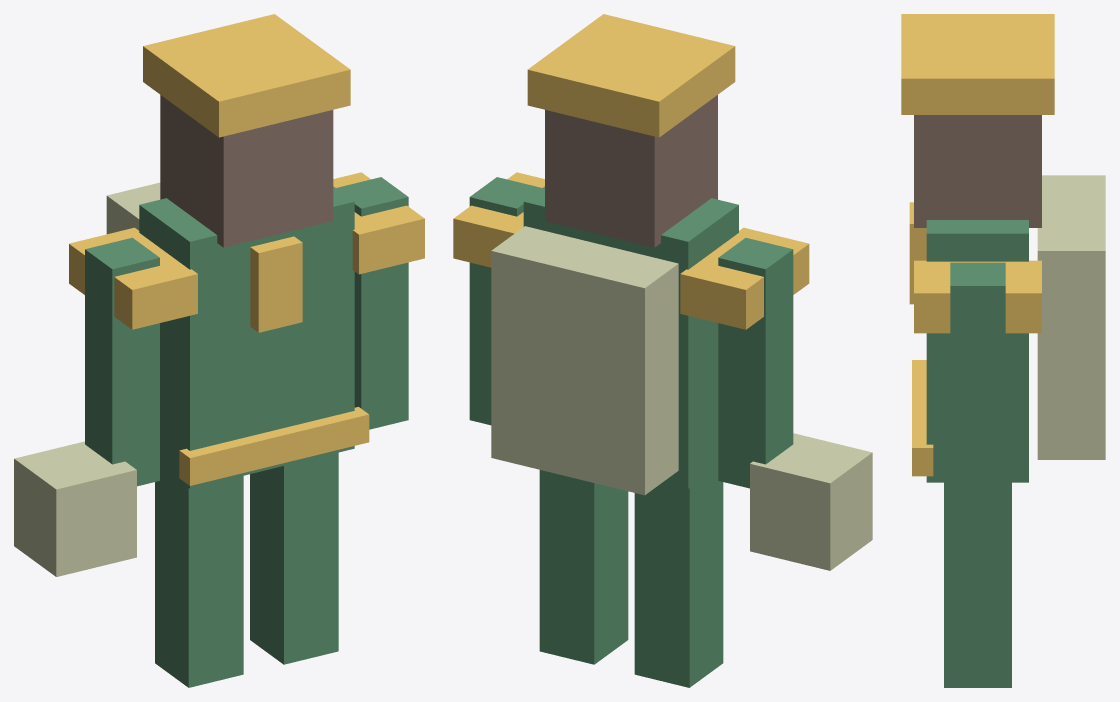
Rendered from 15_draven_frostrelay_courier_near_modular.glb.
3 views of the same model, side by side, from view 1: azimuth 30°, elevation 25°; view 2: azimuth 150°, elevation 25°; view 3: azimuth 270°, elevation 25° (orthographic).
Visible parts, largest first — view 1: Draven Frostrelay, Courier near Modular; view 2: Draven Frostrelay, Courier near Modular; view 3: Draven Frostrelay, Courier near Modular.
Boxes of the visible parts, left/top/right/bottom form: Draven Frostrelay, Courier near Modular: left=14, top=14, right=424, bottom=687; Draven Frostrelay, Courier near Modular: left=453, top=14, right=872, bottom=687; Draven Frostrelay, Courier near Modular: left=901, top=14, right=1105, bottom=687.
Bounding box in the file's own units: 0.9425 × 1.48 × 0.4547.
